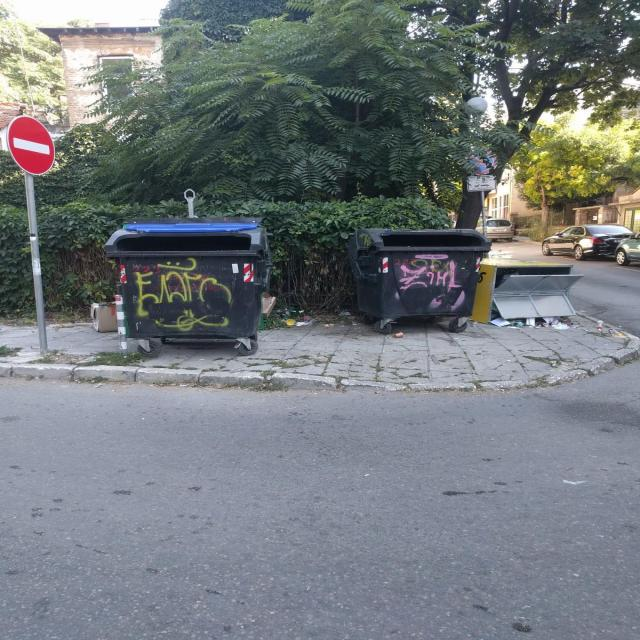litter: (102, 216, 272, 352), (358, 226, 492, 324)
